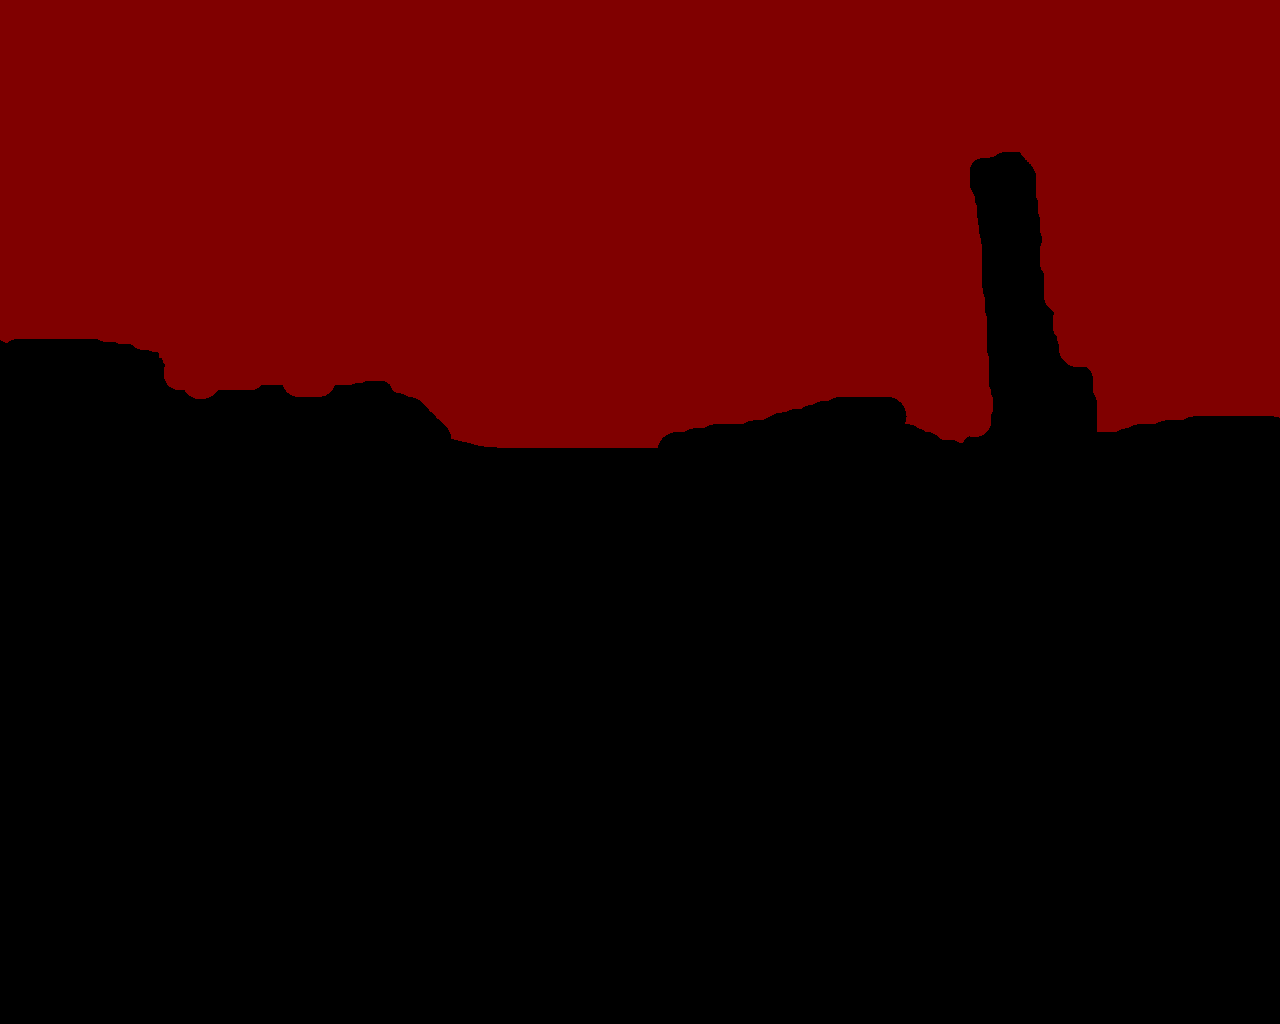Sky: (1, 1, 1279, 448)
